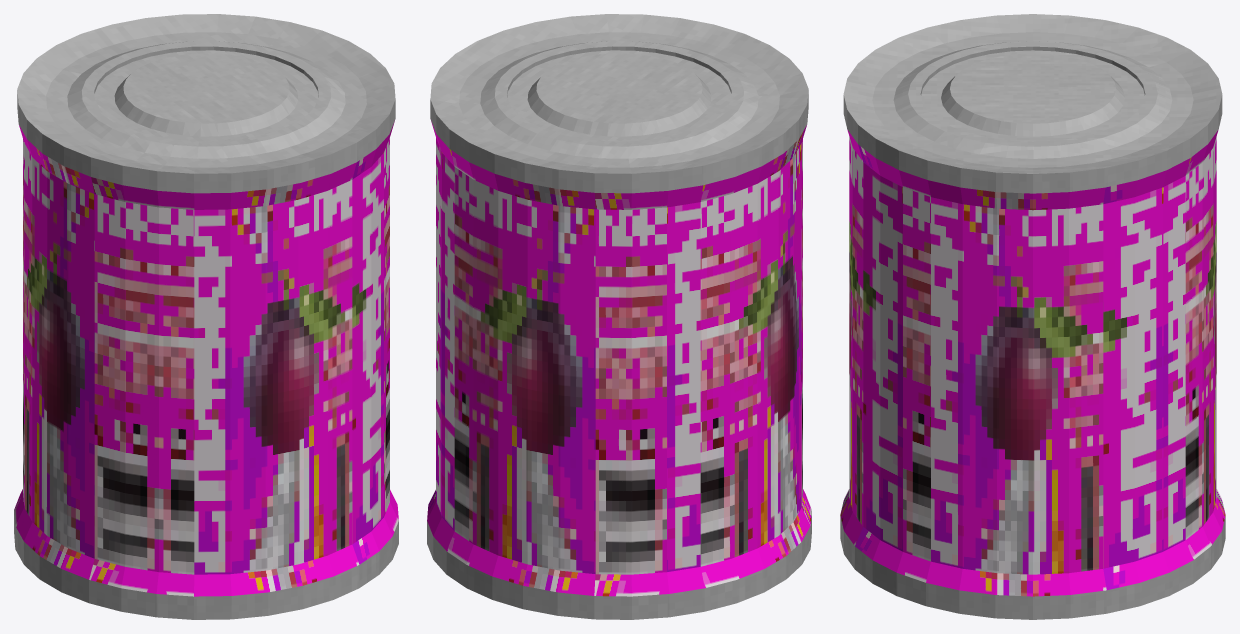
The model's file is can.fbx.
The picture shows the model from 3 angles, left to right: view 1: azimuth 30°, elevation 25°; view 2: azimuth 150°, elevation 25°; view 3: azimuth 270°, elevation 25°; orthographic projection.
Visible parts, largest first — view 1: Cylinder; view 2: Cylinder; view 3: Cylinder.
Part boxes in pixels (box(x1,y1,x2,y2)): Cylinder: box(14, 14, 398, 619); Cylinder: box(427, 14, 811, 619); Cylinder: box(840, 14, 1225, 619).
Bounding box in the file's own units: 3.89 × 5.01 × 3.89.
